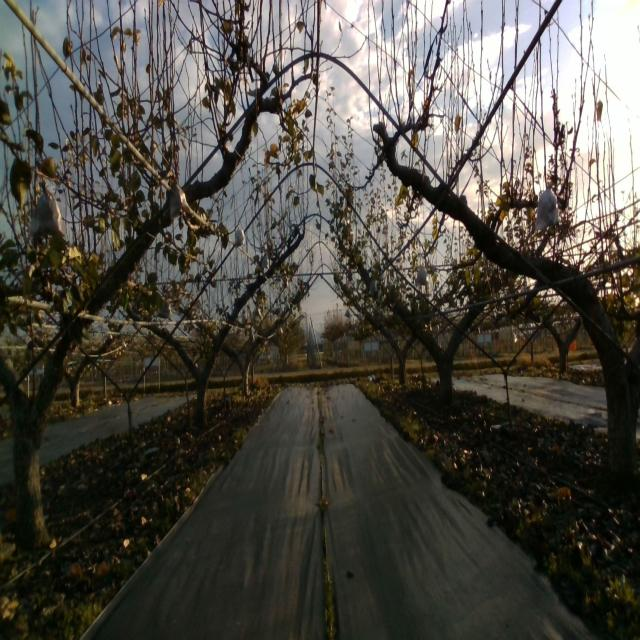pearbags: (30, 178, 65, 238), (535, 183, 560, 232), (170, 182, 190, 220), (416, 262, 427, 284)
